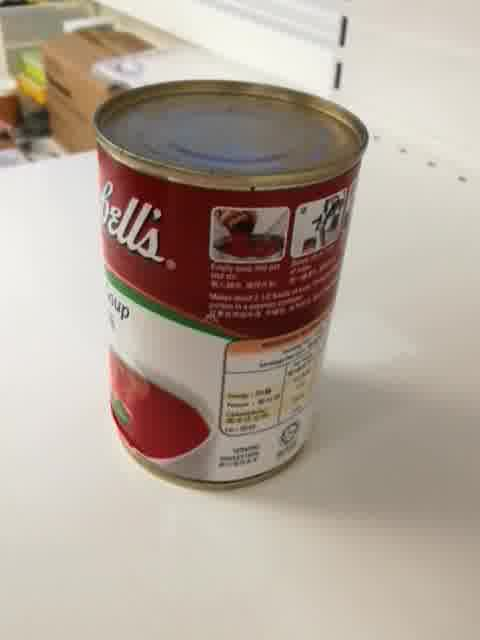tomatosoup: (92, 78, 370, 497)
